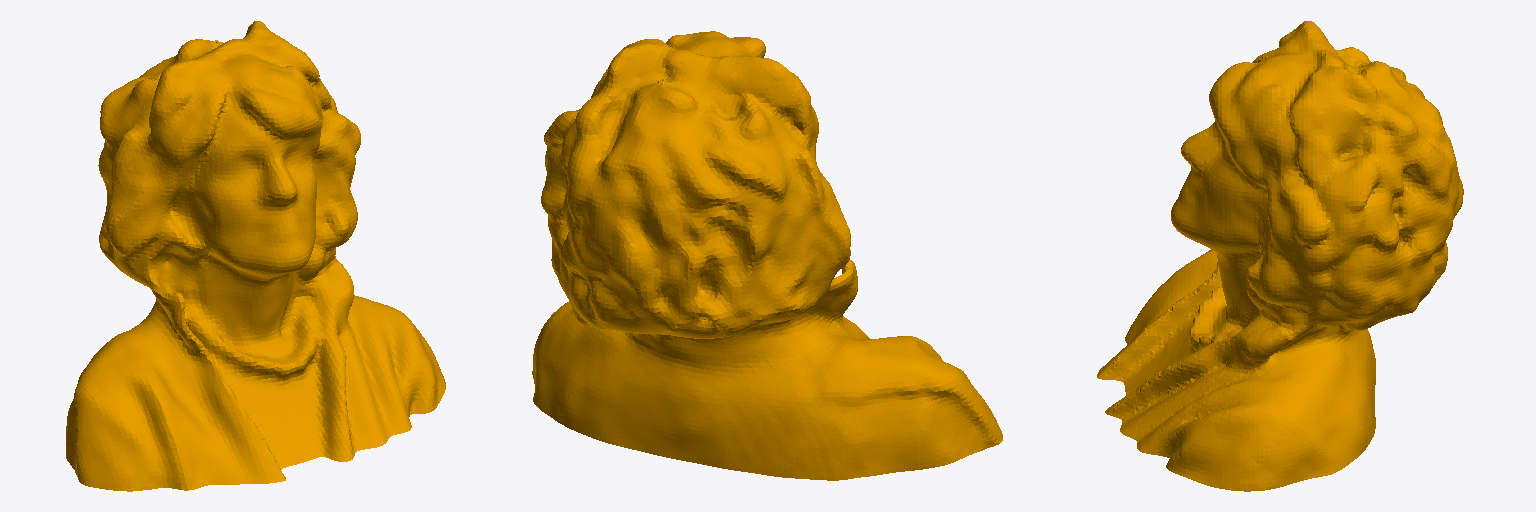
URDF robot description (75658):
<?xml version='1.0'?>

<robot name="75658">
    <static>false</static>
    <link name="link">
        <inertial>
            <mass value="0.07369608227674339"/>
            <inertia ixx="7.406669365765537e-05" ixy="-3.634561646462469e-06" ixz="-4.8657217225707305e-06"
                     iyy="8.517689007569323e-05" iyz="-1.4646884077130403e-05" izz="4.9008250844487484e-05"/>
        </inertial>
        <collision name="collision">
            <geometry>
                <mesh filename="package://miscnet/train/75658/collision_model_vhacd.obj"/>
            </geometry>
        </collision>
        <visual name="visual">
            <geometry>
                <mesh filename="package://miscnet/train/75658/visual_model.obj"/>
            </geometry>
        </visual>
    </link>
</robot>

--- Render facts (derived) ---
3 views of the same robot in one strip: view 1: azimuth 30°, elevation 25°; view 2: azimuth 150°, elevation 25°; view 3: azimuth 270°, elevation 25° (orthographic).
Robot: 75658 — 1 links, 0 joints (none); root link link; default pose: all joints at 0.
Visible links, largest first — view 1: link; view 2: link; view 3: link.
Link boxes in pixels (x1,y1,x2,y2): link: (66,21,445,491); link: (532,31,1002,480); link: (1097,21,1463,491).
Size in the robot's own frame: 0.1125 by 0.091 by 0.0969 metres.
Meshes: 1 distinct files referenced, 1 mesh visuals loaded (1 OBJ).
